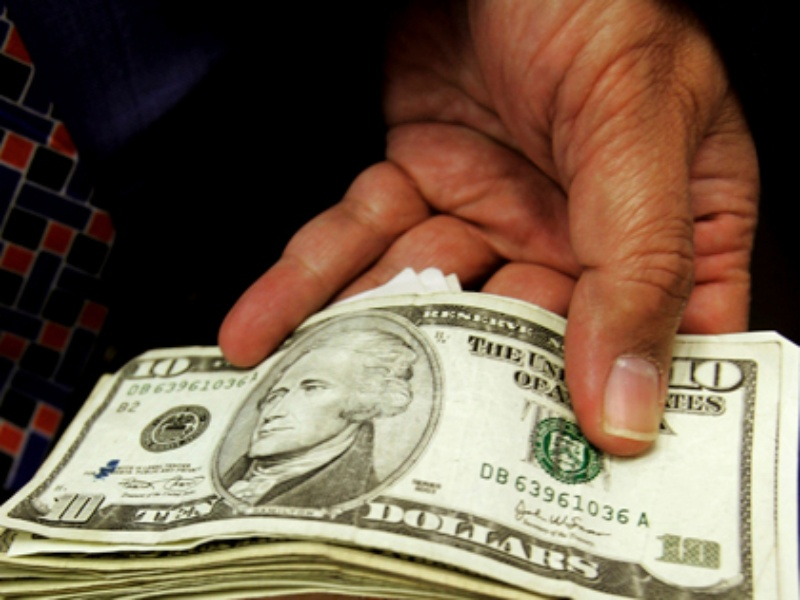cash: (1, 294, 800, 600)
